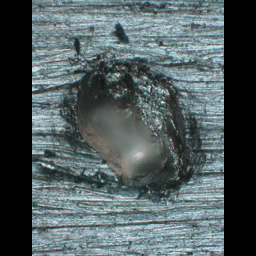d: (59, 50, 210, 207)
